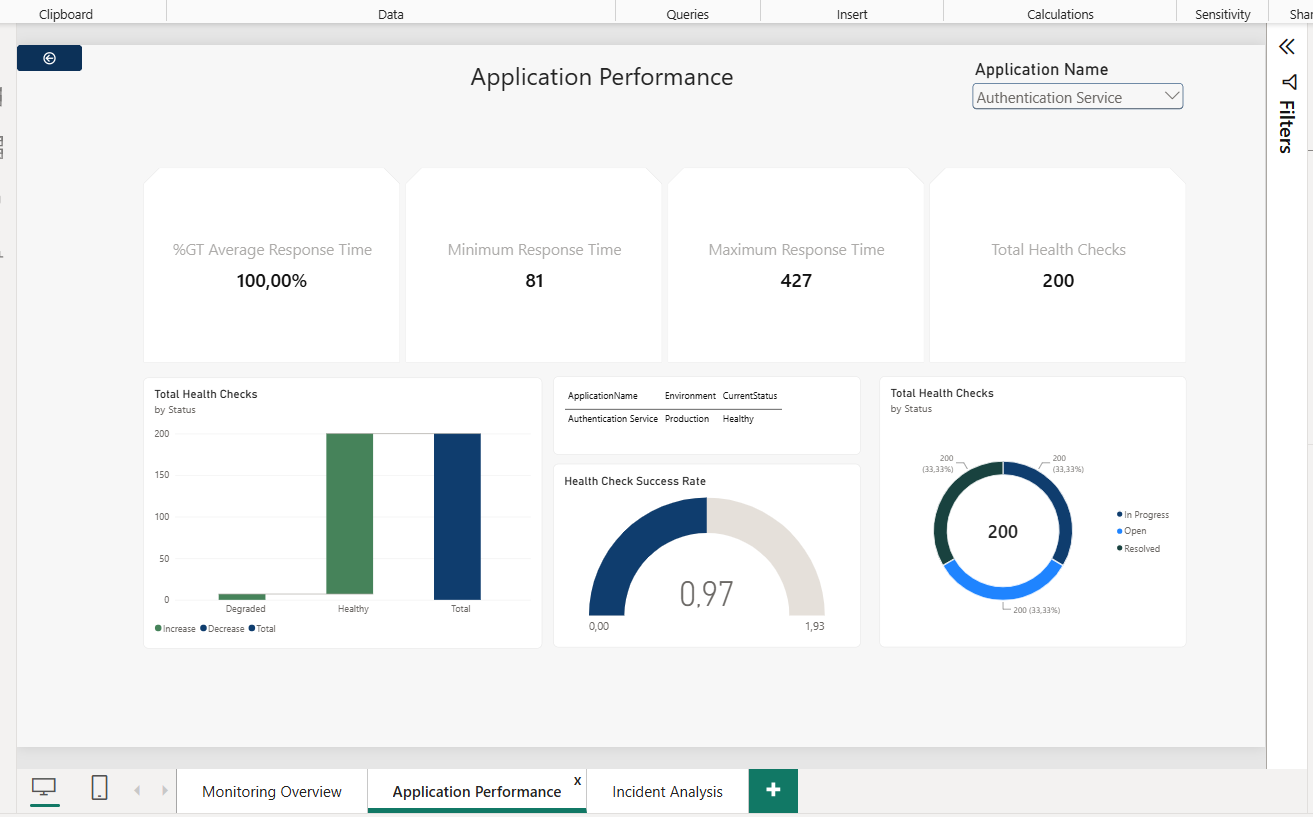

This screenshot's page, from the dashboard's own definition file:
{"tool":"powerbi","page":{"name":"Application Performance","canvas":[1920,1080],"ordinal":1},"visuals":[{"type":"actionButton","box":[0,0,100,40],"z":0},{"type":"cardVisual","fields":{"Data":["Table.Average Response Time","Table.Minimum Response Time","Table.Maximum Response Time","Table.Total Health Checks"]},"box":[194.3,188.6,1605.7,301],"z":1000},{"type":"waterfallChart","fields":{"Category":["HealthChecks.Status","HealthChecks.CheckedDate"],"Y":["Table.Total Health Checks"]},"box":[194.3,510.5,613.3,417.1],"z":2000},{"type":"donutChart","fields":{"Series":["Incidents.Status"],"Y":["Table.Total Health Checks"]},"box":[1326.4,509.7,472.4,417.1],"z":3000},{"type":"slicer","fields":{"Values":["Applications.ApplicationName"]},"box":[1465.6,20.5,333.6,110.5],"z":4000},{"type":"tableEx","fields":{"Values":["Applications.ApplicationName","Applications.Environment","Applications.CurrentStatus"]},"box":[824.9,509.7,472.8,120.8],"z":5000},{"type":"gauge","fields":{"Y":["Table.Health Check Success Rate"]},"box":[824.9,644.8,472.8,282.5],"z":6000},{"type":"textbox","box":[516.2,21,765.7,97.1],"z":7000}]}

Visuals, with their boxes on the page's 1920x1080 design canvas (x1, y1, x2, y2). These are canvas units, not pixel positions in the 1313x817 screenshot, which may show the page scaled, cropped or inside an application window:
actionButton: (x1=0, y1=0, x2=100, y2=40)
cardVisual - Table.Average Response Time x Table.Minimum Response Time: (x1=194, y1=189, x2=1800, y2=490)
waterfallChart - HealthChecks.Status x HealthChecks.CheckedDate: (x1=194, y1=510, x2=808, y2=928)
donutChart - Incidents.Status x Table.Total Health Checks: (x1=1326, y1=510, x2=1799, y2=927)
slicer - Applications.ApplicationName: (x1=1466, y1=20, x2=1799, y2=131)
tableEx - Applications.ApplicationName x Applications.Environment: (x1=825, y1=510, x2=1298, y2=630)
gauge - Table.Health Check Success Rate: (x1=825, y1=645, x2=1298, y2=927)
textbox: (x1=516, y1=21, x2=1282, y2=118)
